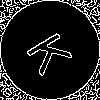K: (25, 25, 81, 78)
